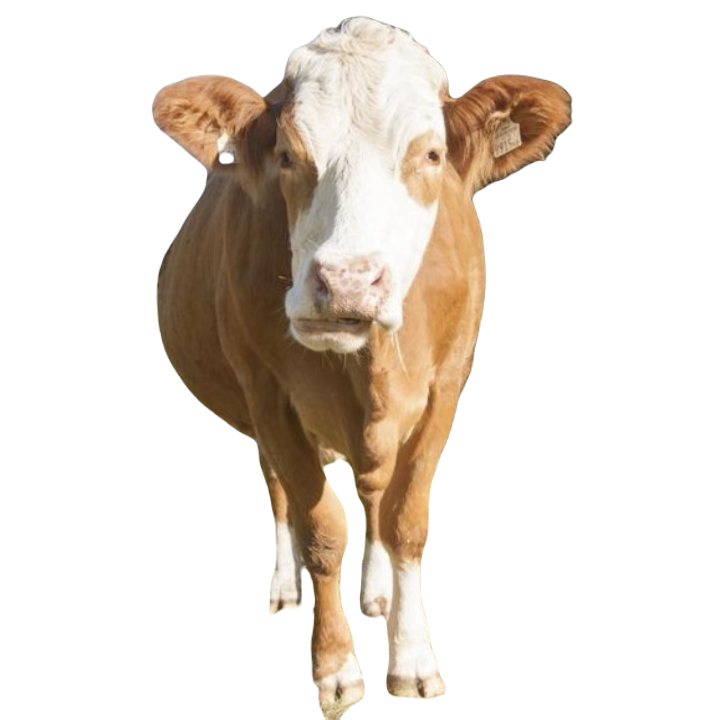Cow: (151, 14, 572, 719)
